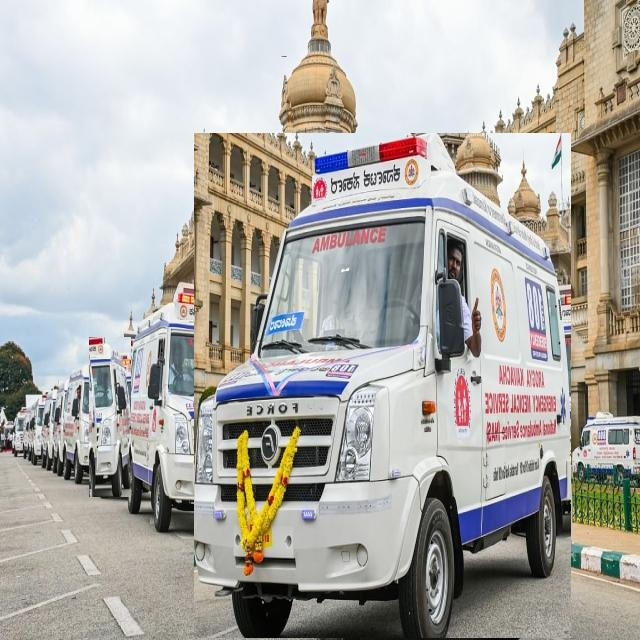emergency: (194, 133, 571, 638), (124, 282, 206, 531), (90, 338, 131, 497), (64, 362, 95, 483), (52, 382, 68, 476)
